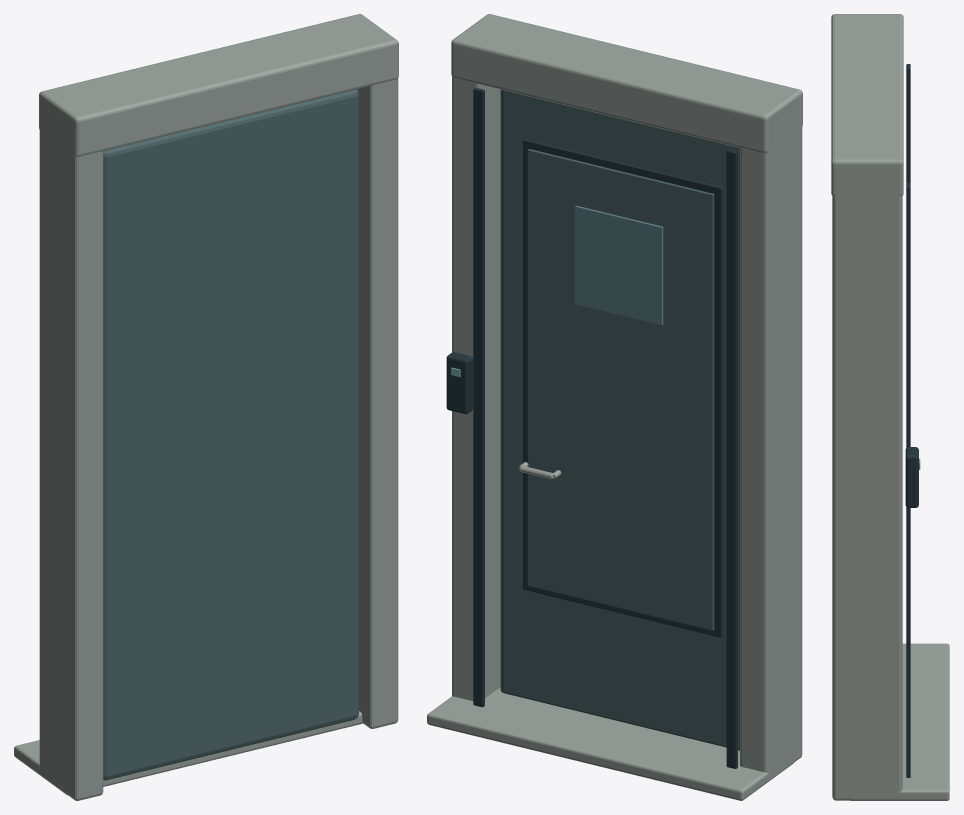
The model's file is door.fbx.
The picture shows the model from 3 angles, left to right: view 1: azimuth 30°, elevation 25°; view 2: azimuth 150°, elevation 25°; view 3: azimuth 270°, elevation 25°; orthographic projection. The views are drawn at different scales.
Visible parts, largest first — view 1: door; view 2: door; view 3: door.
Part boxes in pixels (x1,y1,x2,y2): door: (14, 14, 398, 800); door: (427, 14, 802, 800); door: (831, 14, 949, 800).
Size of the model in its own units: 145 by 293 by 49.
